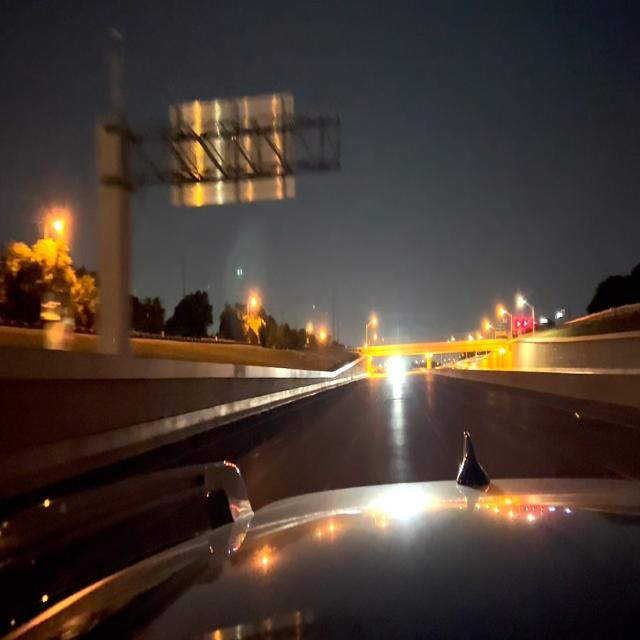back-of-sign: (169, 94, 297, 200)
